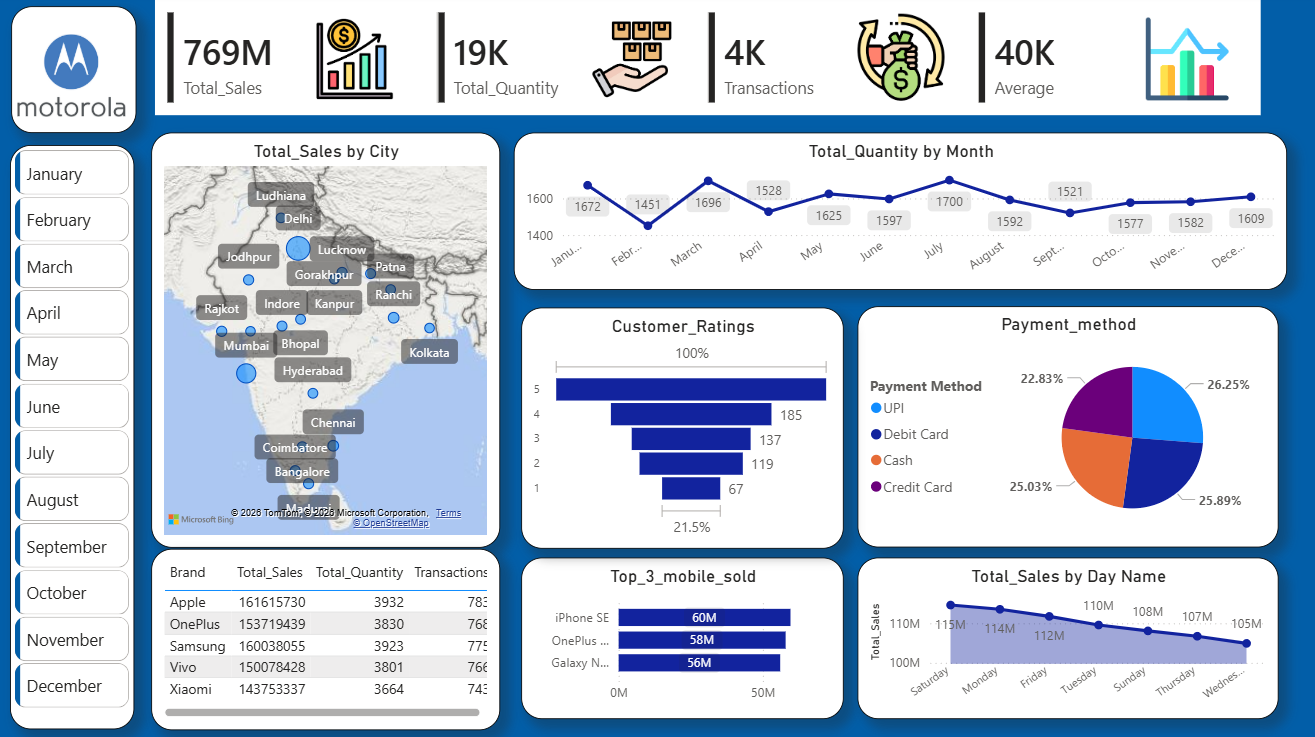

This screenshot's page, from the dashboard's own definition file:
{"tool":"powerbi","page":{"name":"Page 1","canvas":[1280,720],"ordinal":0},"visuals":[{"type":"shape","box":[15.1,11,120.8,122.1],"z":0},{"type":"image","box":[22,23.3,104.3,109.8],"z":1000},{"type":"shape","box":[14.3,144.3,120,564.3],"z":2000},{"type":"advancedSlicerVisual","fields":{"Values":["Sales_Data.Date.Variation.Date Hierarchy.Month"]},"box":[14.3,144.3,120,554.3],"z":3000},{"type":"cardVisual","fields":{"Data":["Sales_Data.Total_Sales","Sales_Data.Total_Quantity","Sales_Data.Transactions","Sales_Data.Average"]},"box":[150,0,1077.1,121.4],"z":4000},{"type":"image","box":[1102.9,21.4,95.7,80],"z":5000},{"type":"image","box":[832.9,11.4,84.3,98.6],"z":6000},{"type":"image","box":[565.7,22.9,97.1,78.6],"z":7000},{"type":"image","box":[294.3,21.4,105.7,80],"z":8000},{"type":"map","fields":{"Category":["Sales_Data.City"],"Size":["Sales_Data.Total_Sales"]},"box":[150.8,132.7,336.6,400.5],"z":9000},{"type":"lineChart","fields":{"Category":["Sales_Data.Date.Variation.Date Hierarchy.Month","Sales_Data.Date.Variation.Date Hierarchy.Day"],"Y":["Sales_Data.Total_Quantity"]},"box":[500.7,132.7,746.8,152],"z":10000},{"type":"clusteredBarChart","title":"Top_3_mobile_sold","fields":{"Category":["Sales_Data.Mobile Model"],"Y":["Sales_Data.Total_Sales"]},"box":[507.9,542.9,311.3,155.6],"z":11000},{"type":"pieChart","title":"Payment_method","fields":{"Category":["Sales_Data.Payment Method"],"Y":["Sales_Data.Transactions"]},"box":[832.4,300.4,406.6,232.8],"z":12000},{"type":"funnel","title":"Customer_Ratings","fields":{"Y":["CountNonNull(Sales_Data.Customer Ratings)"],"Category":["Sales_Data.Customer Ratings"]},"box":[507.9,301.6,311.3,232.8],"z":13000},{"type":"areaChart","fields":{"Category":["Sales_Data.Day Name"],"Y":["Sales_Data.Total_Sales"]},"box":[832.4,542.9,406.6,155.6],"z":14000},{"type":"tableEx","fields":{"Values":["Sales_Data.Brand","Sales_Data.Total_Sales","Sales_Data.Total_Quantity","Sales_Data.Transactions"]},"box":[150.8,534.5,336.6,174.9],"z":15000}]}

Visuals, with their boxes in screenshot pixels (x1, y1, x2, y2), scaled from the page's 1280x720 canvas onto the 1315x737 screenshot:
shape: region(16, 11, 140, 136)
image: region(23, 24, 130, 136)
shape: region(15, 148, 138, 725)
advancedSlicerVisual - Sales_Data.Date.Variation.Date Hierarchy.Month: region(15, 148, 138, 715)
cardVisual - Sales_Data.Total_Sales x Sales_Data.Total_Quantity: region(154, 0, 1261, 124)
image: region(1133, 22, 1231, 104)
image: region(856, 12, 942, 113)
image: region(581, 23, 681, 104)
image: region(302, 22, 411, 104)
map - Sales_Data.City x Sales_Data.Total_Sales: region(155, 136, 501, 546)
lineChart - Sales_Data.Date.Variation.Date Hierarchy.Month x Sales_Data.Date.Variation.Date Hierarchy.Day: region(514, 136, 1282, 291)
"Top_3_mobile_sold" clusteredBarChart: region(522, 556, 842, 715)
"Payment_method" pieChart: region(855, 307, 1273, 546)
"Customer_Ratings" funnel: region(522, 309, 842, 547)
areaChart - Sales_Data.Day Name x Sales_Data.Total_Sales: region(855, 556, 1273, 715)
tableEx - Sales_Data.Brand x Sales_Data.Total_Sales: region(155, 547, 501, 726)
